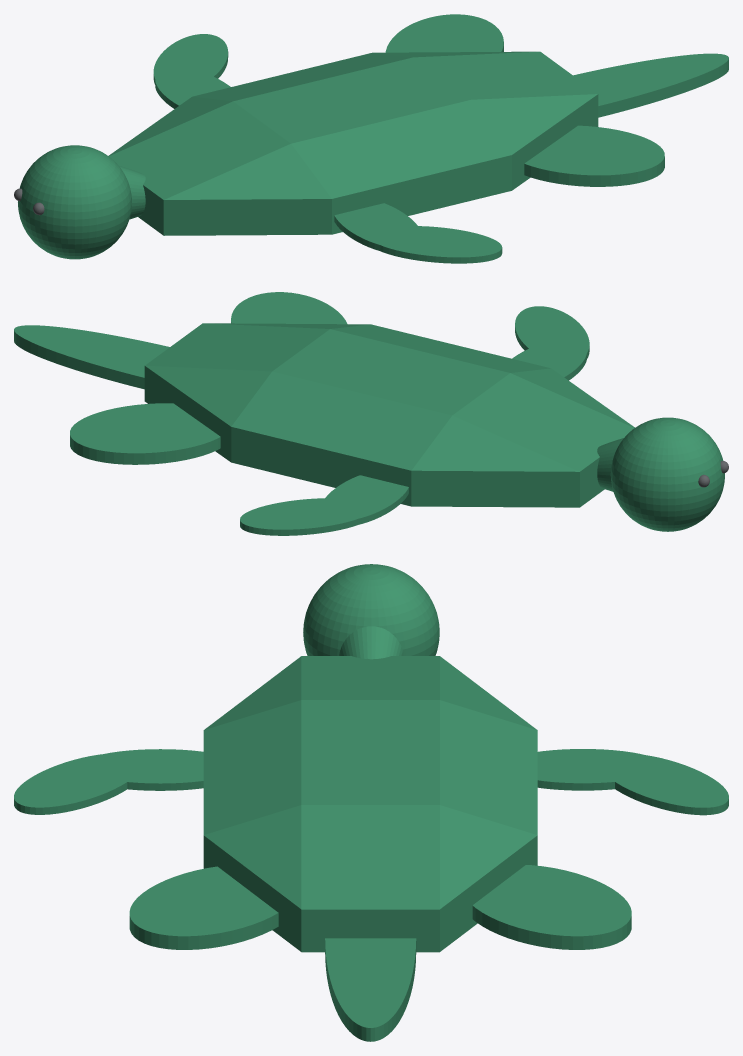
Rendered from turtle.glb.
3 renders of one model, top to bottom at view 1: azimuth 30°, elevation 25°; view 2: azimuth 150°, elevation 25°; view 3: azimuth 270°, elevation 25°, orthographic. The views are drawn at different scales.
Parts seen in each view (by area): view 1: Mesh_Mesh_head_geo.001_lambert2SG.001; view 2: Mesh_Mesh_head_geo.001_lambert2SG.001; view 3: Mesh_Mesh_head_geo.001_lambert2SG.001.
Part boxes in pixels (x1,y1,x2,y2): Mesh_Mesh_head_geo.001_lambert2SG.001: (14,14,728,263); Mesh_Mesh_head_geo.001_lambert2SG.001: (14,292,728,535); Mesh_Mesh_head_geo.001_lambert2SG.001: (14,564,728,1041).
Bounding box in the file's own units: 9.5 × 1.34 × 7.
